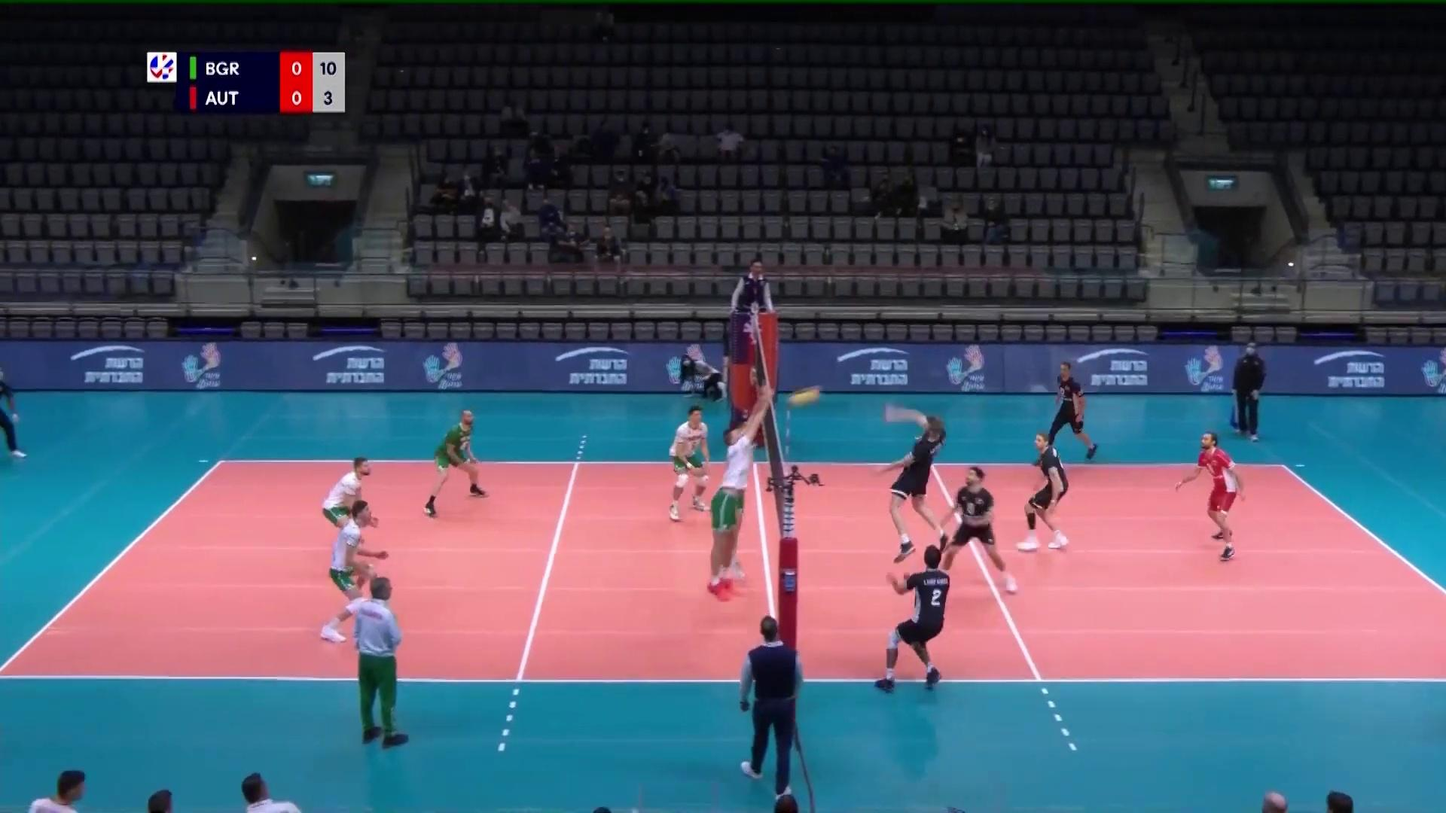ball: (787, 387, 820, 405)
